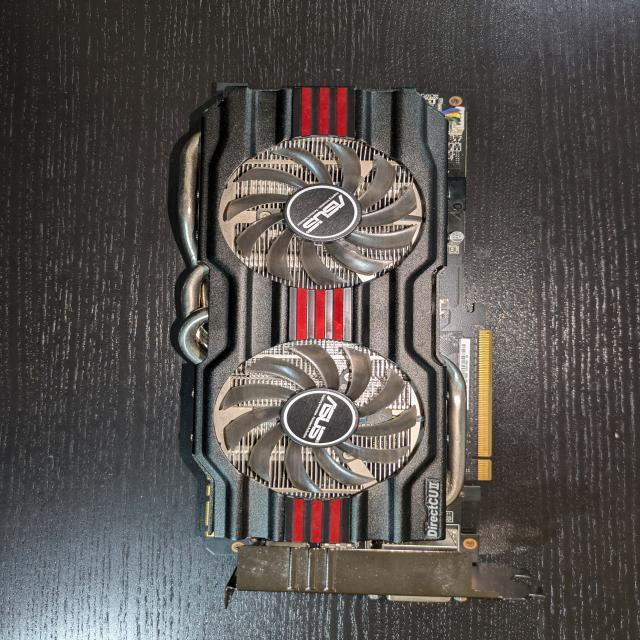GPU: (164, 75, 498, 560)
